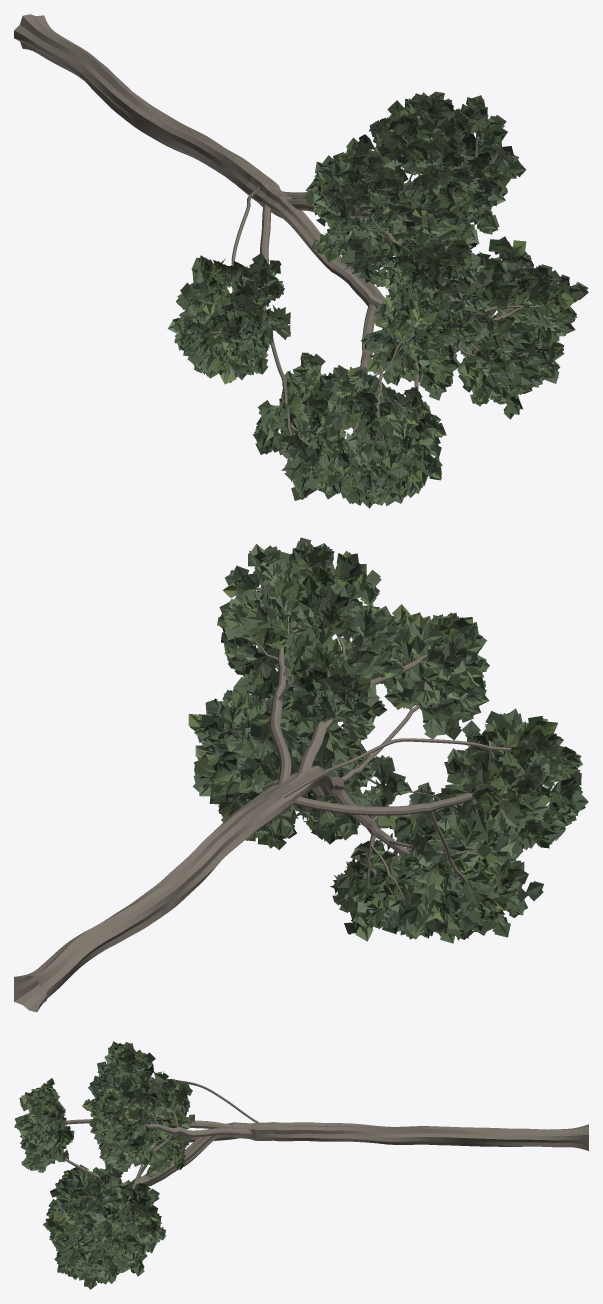
The model's file is tree_near_14.obj.
The picture shows the model from 3 angles, top to bottom: view 1: azimuth 30°, elevation 25°; view 2: azimuth 150°, elevation 25°; view 3: azimuth 270°, elevation 25°; orthographic projection. The views are drawn at different scales.
Parts seen in each view (by area): view 1: tree_near_14; view 2: tree_near_14; view 3: tree_near_14.
Part boxes in pixels (bbox=[...]): tree_near_14: bbox=[14, 14, 588, 508]; tree_near_14: bbox=[14, 537, 588, 1012]; tree_near_14: bbox=[14, 1041, 588, 1289].
Bounding box in the file's own units: 0.5406 × 0.4912 × 0.9966.
Materials: 1 (1 with a texture image).
